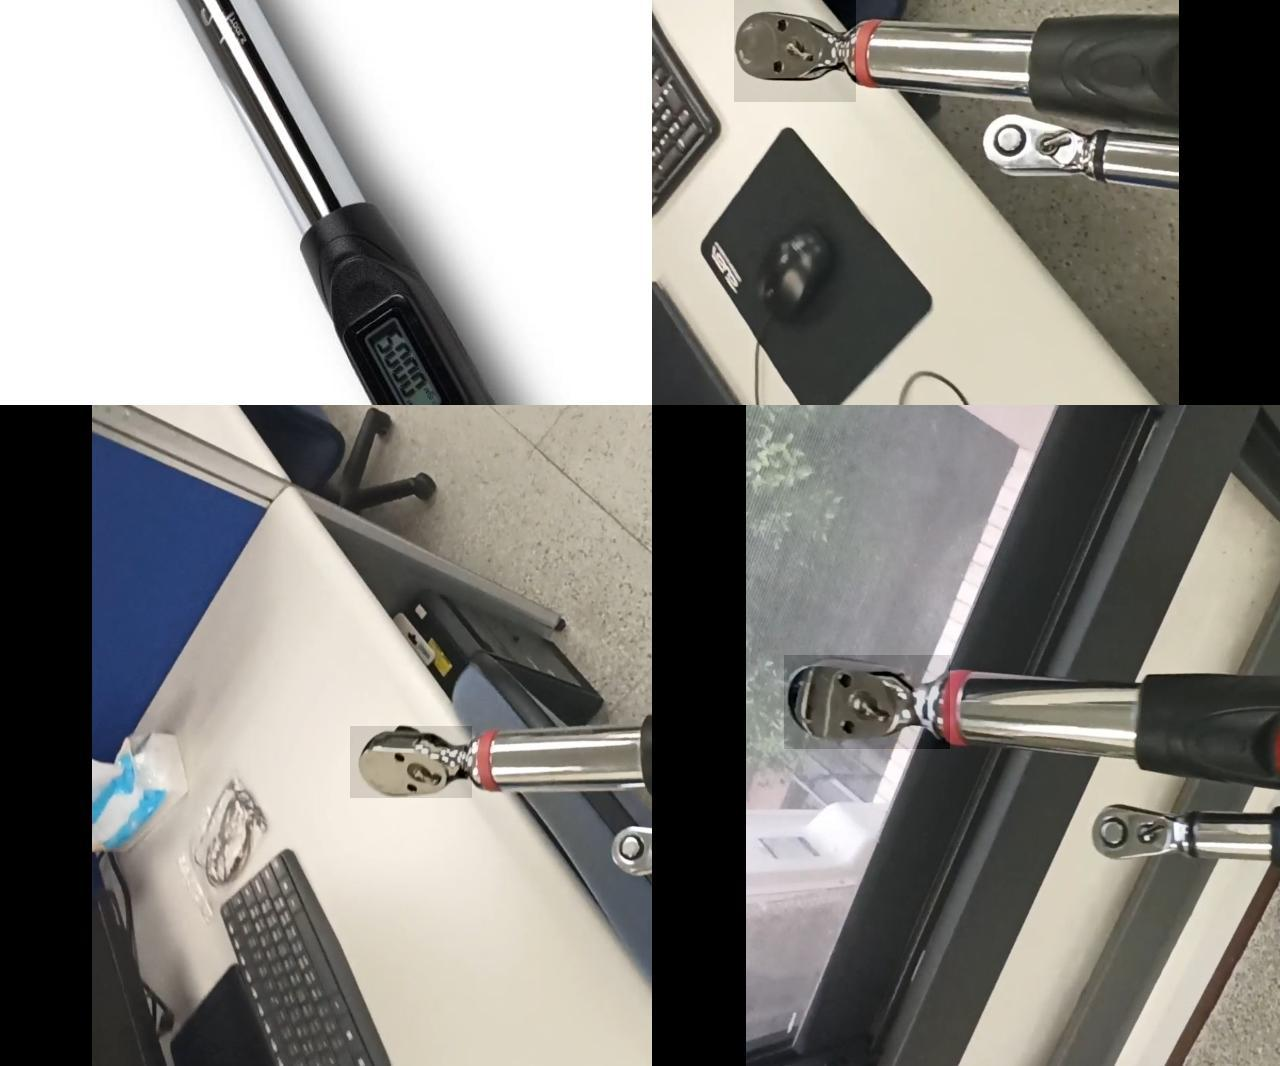Tool: (784, 655, 949, 749), (732, 0, 855, 102), (974, 109, 1100, 201), (349, 726, 471, 798), (1091, 803, 1185, 864), (613, 819, 652, 880)
